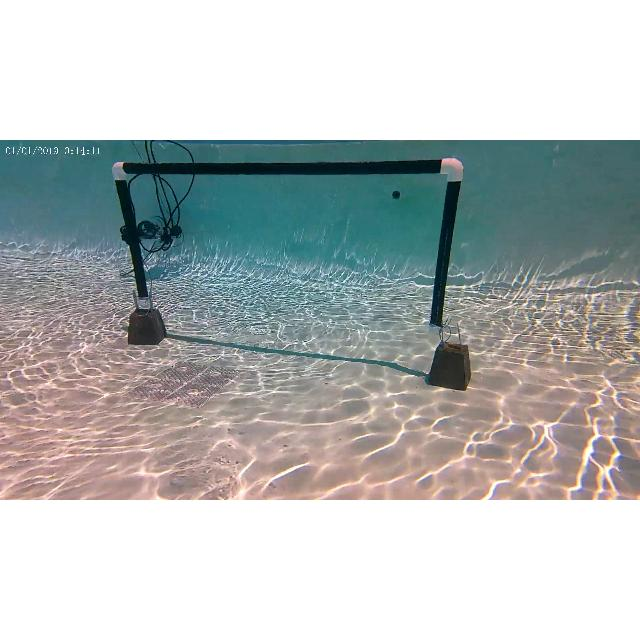prequal gate: (111, 158, 467, 338)
prequal gate leg l: (109, 157, 153, 309)
prequal gate leg r: (428, 158, 464, 336)
